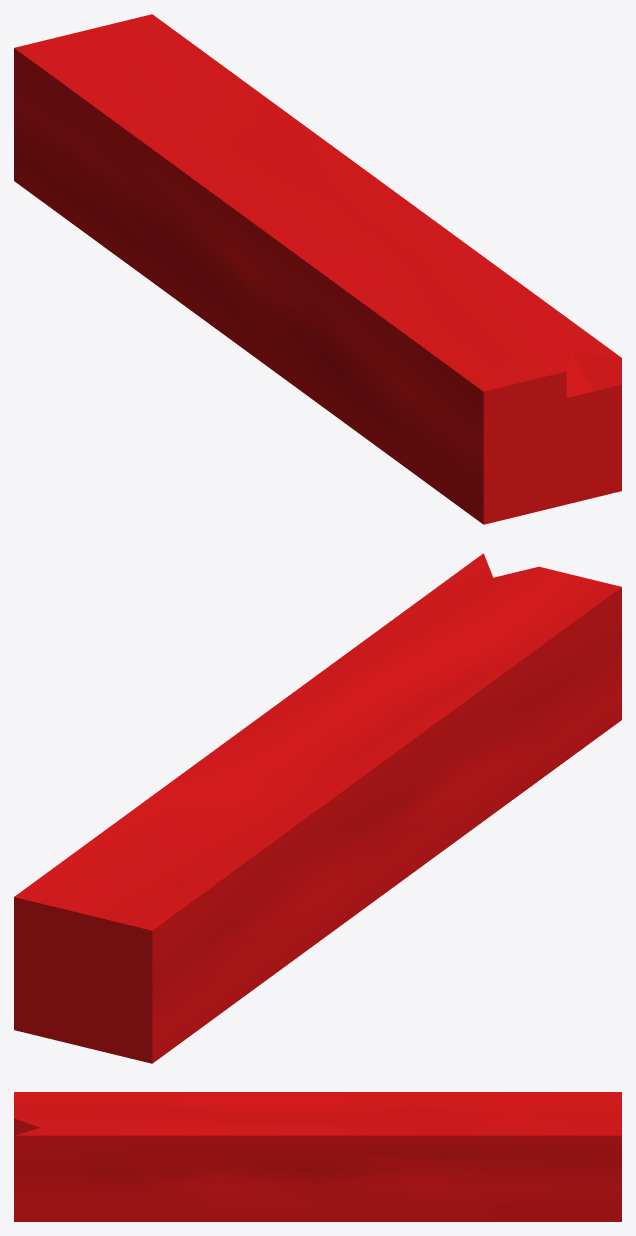
Rendered from wood log_1m_v2.fbx.
3 renders of one model, top to bottom at view 1: azimuth 30°, elevation 25°; view 2: azimuth 150°, elevation 25°; view 3: azimuth 270°, elevation 25°, orthographic. The views are drawn at different scales.
Visible parts, largest first — view 1: wood log_1m_v2; view 2: wood log_1m_v2; view 3: wood log_1m_v2.
Boxes of the visible parts, x1,y1,x2,y2 form: wood log_1m_v2: (14, 14, 621, 524); wood log_1m_v2: (14, 553, 621, 1063); wood log_1m_v2: (14, 1092, 621, 1221).
Bounding box in the file's own units: 0.17 × 0.16 × 1.
